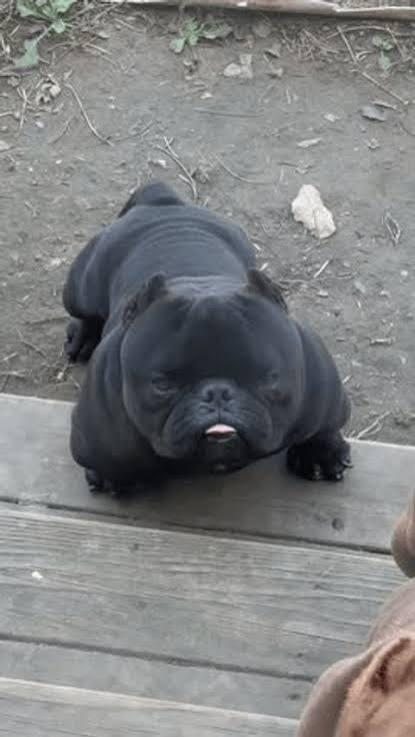adult_dog: (58, 183, 355, 502), (297, 491, 415, 737)
